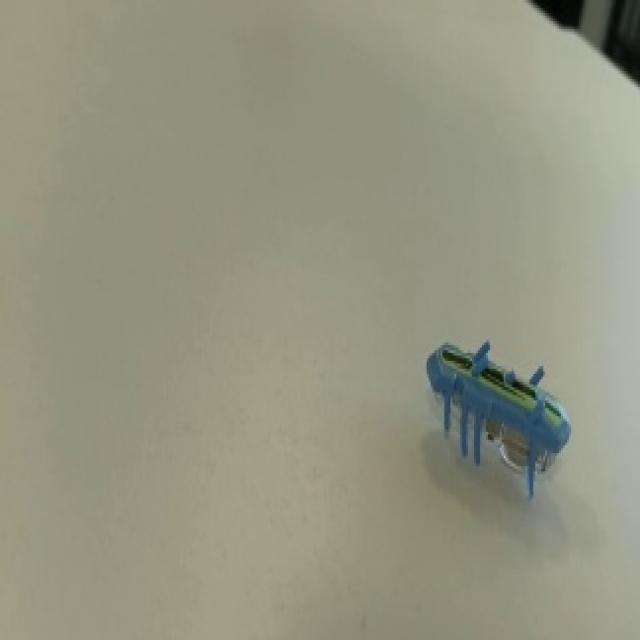3_NanoBug_Celeste: (416, 294, 599, 546)
